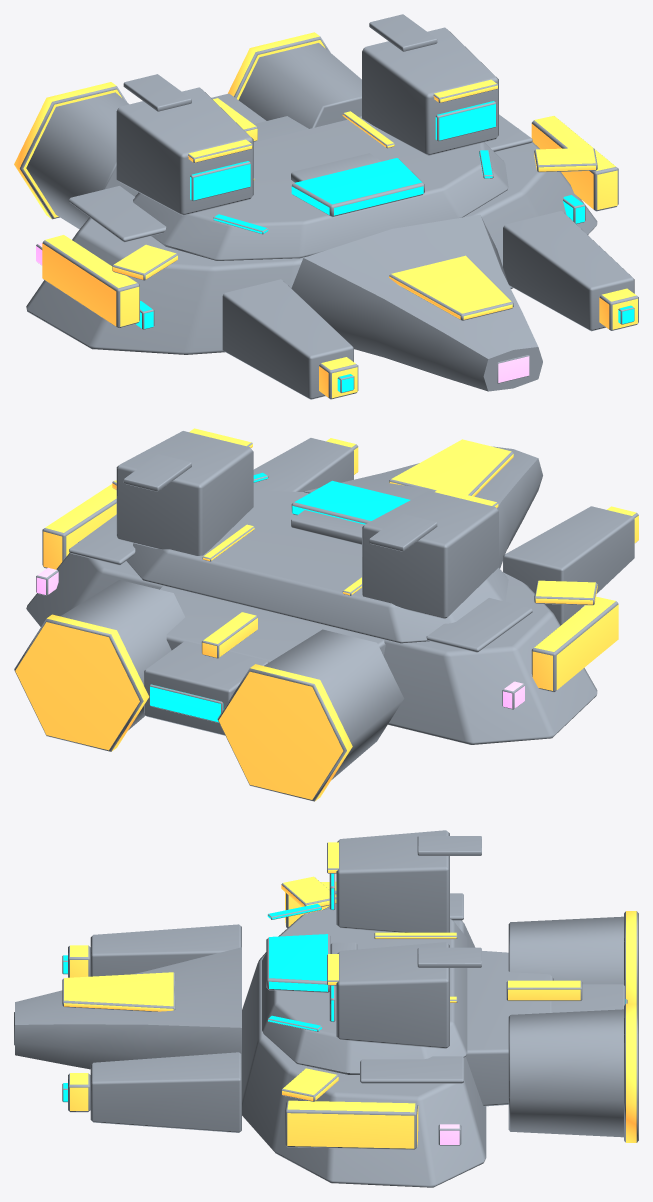
Rendered from Ship_Anvil.fbx.
3 views of the same model, one above another, from view 1: azimuth 30°, elevation 25°; view 2: azimuth 150°, elevation 25°; view 3: azimuth 270°, elevation 25° (orthographic). The views are drawn at different scales.
Parts seen in each view (by area): view 1: Ship_Body, Ship_Nose, Ship_Engine; view 2: Ship_Body, Ship_Engine, Ship_Nose; view 3: Ship_Body, Ship_Nose, Ship_Engine.
Boxes of the visible parts, <box> form: Ship_Body: <box>26,14,618,354</box>; Ship_Nose: <box>222,211,638,399</box>; Ship_Engine: <box>14,32,361,229</box>; Ship_Body: <box>26,428,618,744</box>; Ship_Engine: <box>14,580,404,801</box>; Ship_Nose: <box>253,438,638,625</box>; Ship_Body: <box>242,830,486,1187</box>; Ship_Nose: <box>14,924,241,1132</box>; Ship_Engine: <box>466,911,638,1142</box>.
Size of the model in its own units: 301 by 107 by 331.
